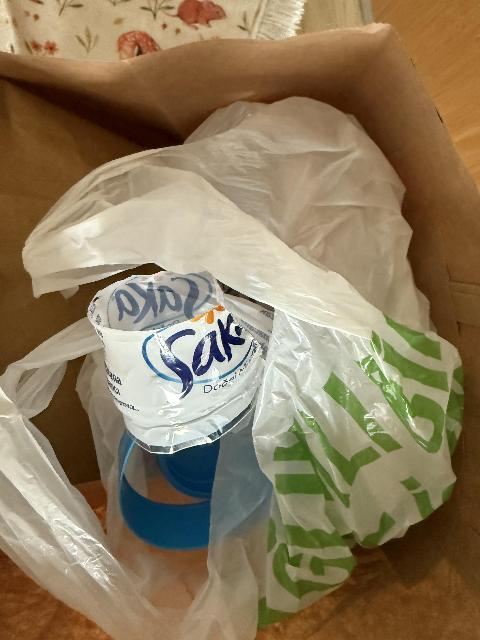Plastik: (248, 148, 446, 527), (81, 279, 256, 440)
